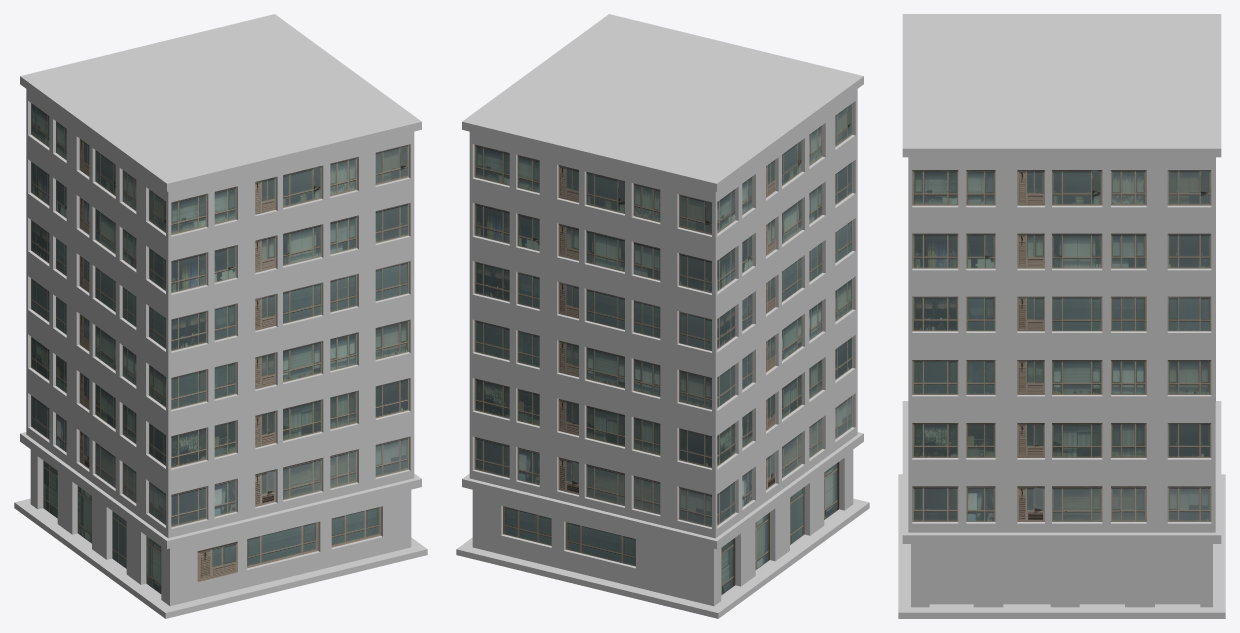
Rendered from CasualBuildings.fbx.
3 views of the same model, side by side, from view 1: azimuth 30°, elevation 25°; view 2: azimuth 150°, elevation 25°; view 3: azimuth 270°, elevation 25° (orthographic). The views are drawn at different scales.
Visible parts, largest first — view 1: building4; view 2: building4; view 3: building4.
Part boxes in pixels (<box>): building4: <box>14,14,427,618</box>; building4: <box>456,14,869,618</box>; building4: <box>898,14,1225,618</box>.
Size of the model in its own units: 0.704 by 1.11 by 0.704.
